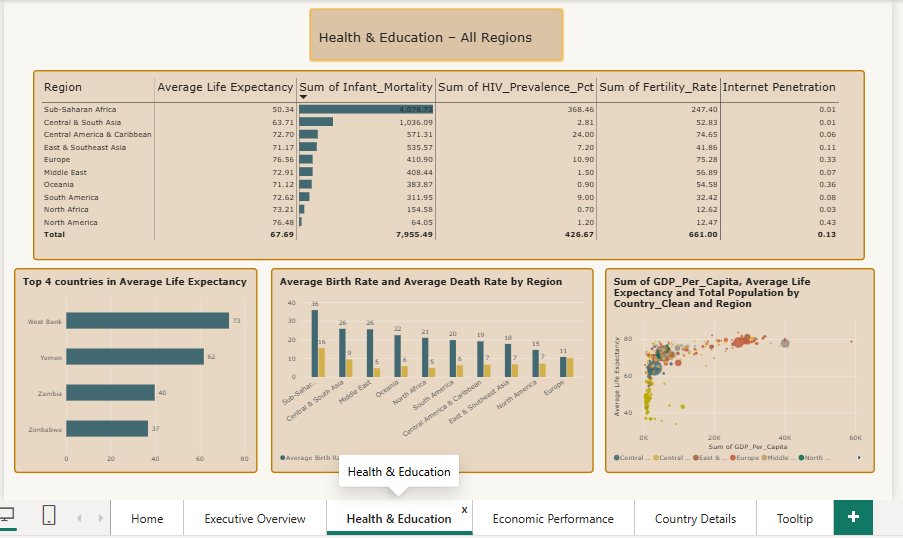

This screenshot's page, from the dashboard's own definition file:
{"tool":"powerbi","page":{"name":"Health & Education","canvas":[1920,1080],"ordinal":2},"visuals":[{"type":"clusteredBarChart","title":"Top 4 countries in Average Life Expectancy","fields":{"Category":["Country_Data.Country_Clean"],"Y":["Country_Data.Average Life Expectancy"]},"box":[20.6,578.3,525.7,443.4],"z":0},{"type":"clusteredColumnChart","fields":{"Category":["Country_Data.Region"],"Y":["Country_Data.Average Birth Rate","Country_Data.Average Death Rate"]},"box":[576,578.3,697.1,443.4],"z":1000},{"type":"pivotTable","fields":{"Rows":["Country_Data.Region"],"Values":["Country_Data.Average Life Expectancy","Sum(Country_Data.Infant_Mortality)","Sum(Country_Data.HIV_Prevalence_Pct)","Sum(Country_Data.Fertility_Rate)","Country_Data.Internet Penetration"]},"box":[61.7,150.9,1796.6,411.4],"z":2000},{"type":"scatterChart","fields":{"Category":["Country_Data.Country_Clean"],"Series":["Country_Data.Region"],"Size":["Country_Data.Total Population"],"X":["Sum(Country_Data.GDP_Per_Capita)"],"Y":["Country_Data.Average Life Expectancy"]},"box":[1298.3,578.3,582.9,443.4],"z":3000},{"type":"cardVisual","fields":{"Data":["Country_Data.Title Health"]},"box":[658.3,18.3,550.9,116.6],"z":4000}]}

Visuals, with their boxes on the page's 1920x1080 design canvas (x1, y1, x2, y2). These are canvas units, not pixel positions in the 903x538 screenshot, which may show the page scaled, cropped or inside an application window:
"Top 4 countries in Average Life Expectancy" clusteredBarChart: x1=21 y1=578 x2=546 y2=1022
clusteredColumnChart - Country_Data.Region x Country_Data.Average Birth Rate: x1=576 y1=578 x2=1273 y2=1022
pivotTable - Country_Data.Region x Country_Data.Average Life Expectancy: x1=62 y1=151 x2=1858 y2=562
scatterChart - Country_Data.Country_Clean x Country_Data.Region: x1=1298 y1=578 x2=1881 y2=1022
cardVisual - Country_Data.Title Health: x1=658 y1=18 x2=1209 y2=135
